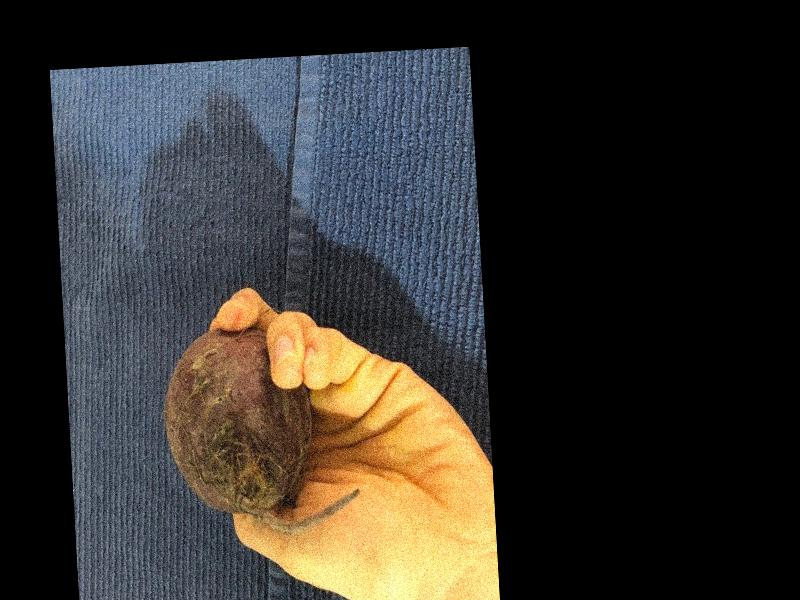Beet: (161, 321, 364, 537)
